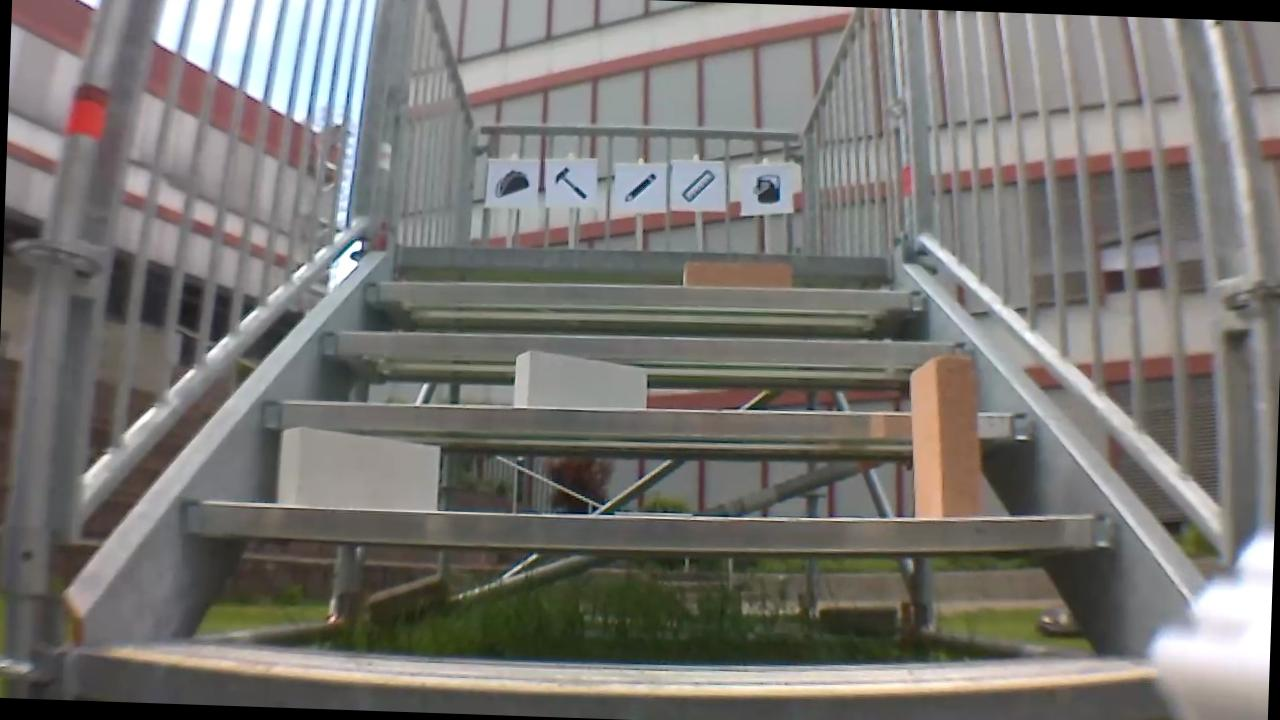brick: (905, 356, 986, 520), (278, 428, 438, 511), (512, 350, 646, 408), (684, 261, 791, 288)
bucket: (743, 169, 786, 207)
edge: (76, 636, 1171, 720), (185, 485, 1113, 565), (267, 386, 1034, 446), (320, 322, 990, 371), (360, 272, 933, 316), (388, 239, 889, 277)
hammer: (547, 164, 593, 204)
pencil: (620, 168, 662, 204)
ruler: (679, 165, 718, 204)
steps: (66, 224, 1212, 720)
taco: (485, 165, 533, 204)
